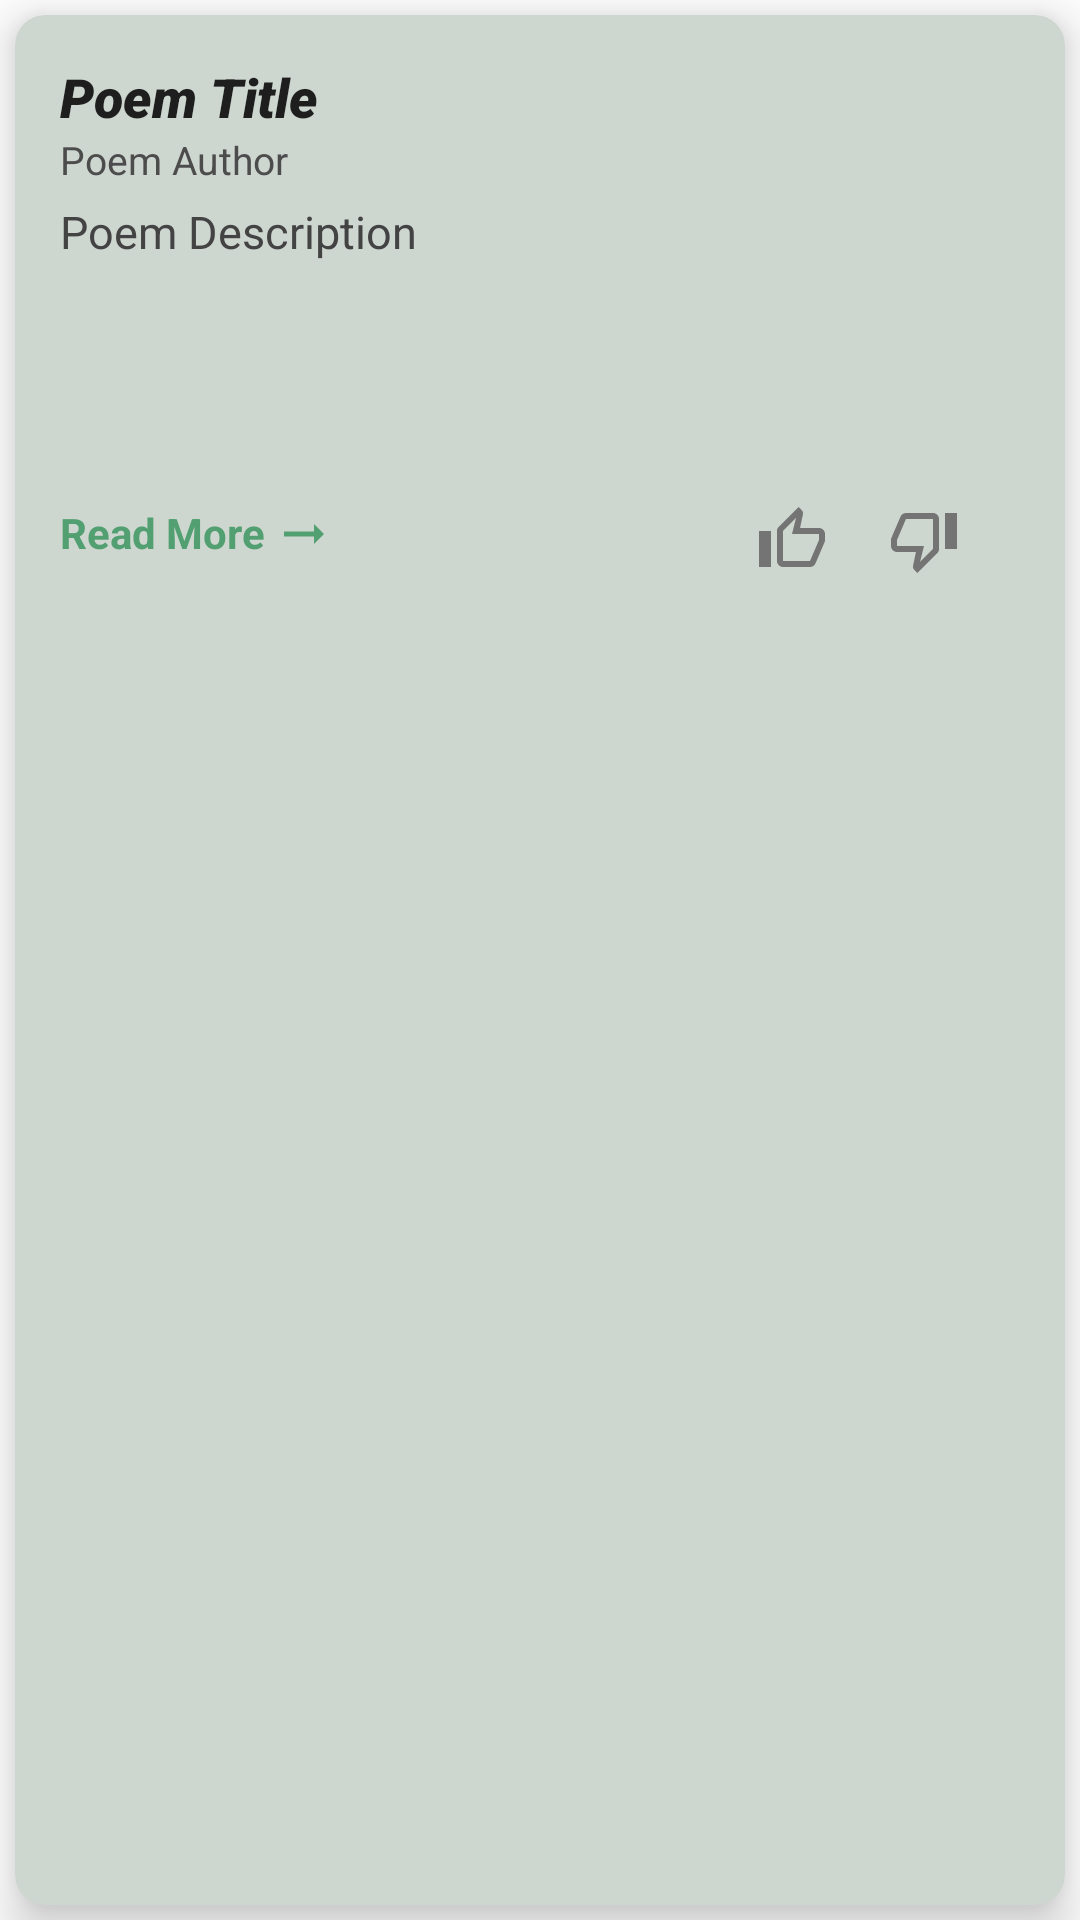

Icon bounding boxes for this 1080 × 1920 phone screenshot, format [x1,y1,x2,y2]:
arrow right: [284,524,324,544]
thumb down: [891,513,957,573]
thumb up: [759,507,825,567]
